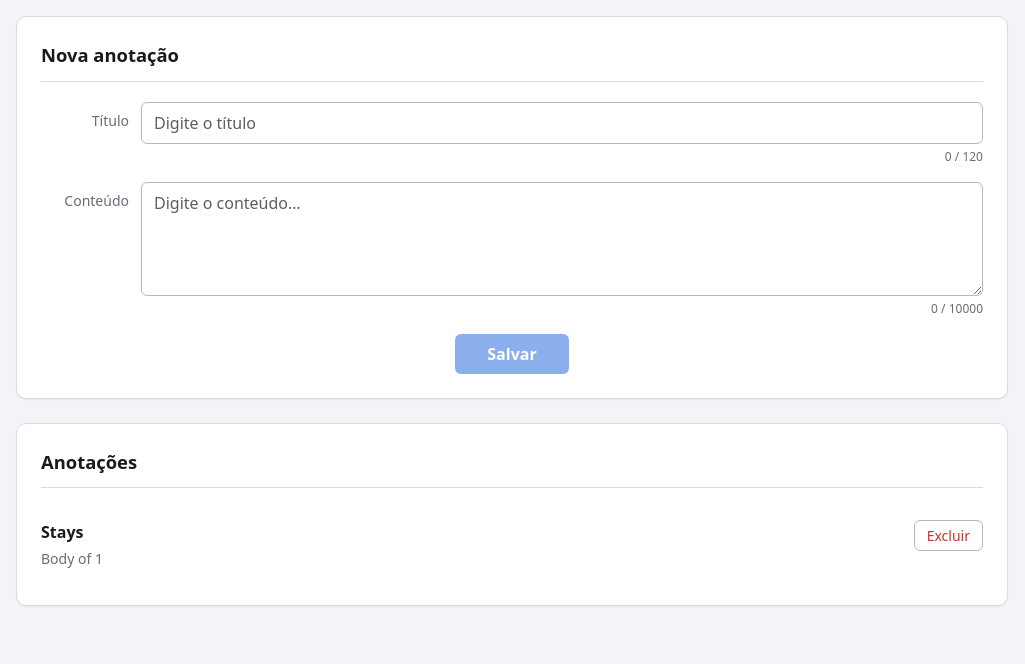
Scenario: NotesView › deleting a note › shows an error and keeps the note when the DELETE fails
The image size is (1025, 664).
Click the button with test id "delete-1" at {"x": 948, "y": 536}, box 914,520 -> 983,551
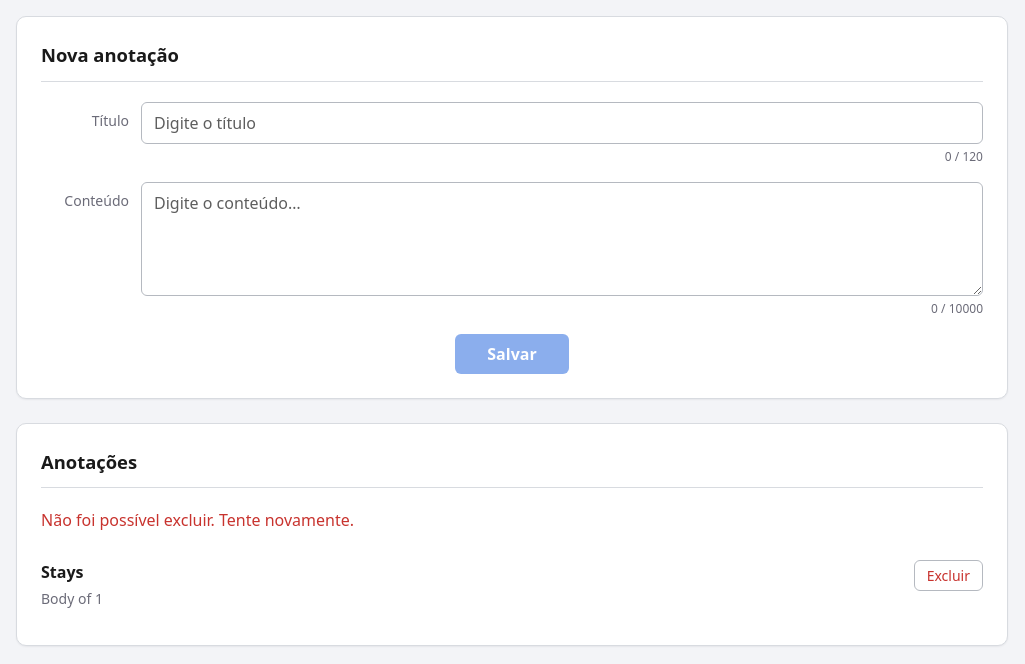
Expected: the message "Não foi possível excluir. Tente novamente." is shown, 41,509 -> 354,531
